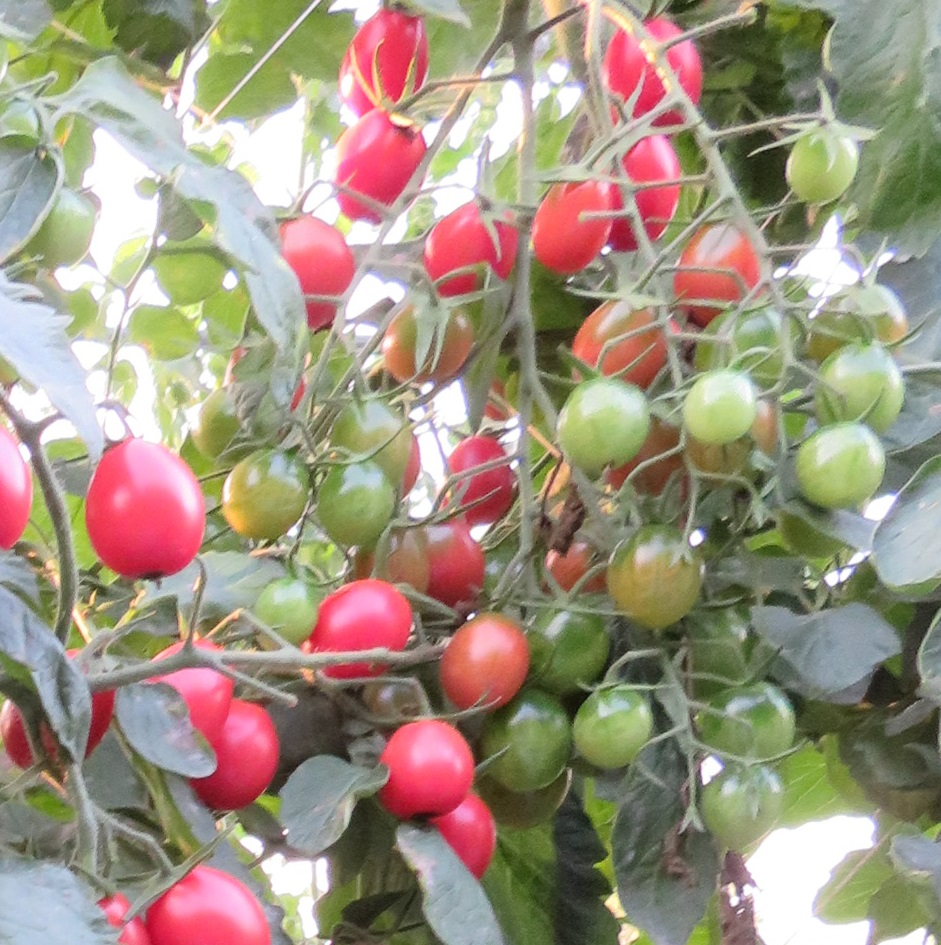green: (596, 522, 704, 634), (688, 754, 791, 859), (552, 376, 654, 478), (788, 418, 891, 514), (211, 447, 318, 537), (803, 336, 906, 425), (382, 298, 475, 385), (318, 452, 399, 550), (524, 603, 611, 693), (480, 714, 577, 794), (575, 678, 662, 767), (782, 122, 867, 206), (696, 682, 794, 752), (702, 305, 790, 382), (328, 394, 427, 461), (681, 367, 757, 441), (253, 576, 311, 637)
orange: (675, 220, 770, 326), (534, 162, 622, 273), (437, 617, 535, 714), (574, 296, 679, 386)
red: (81, 423, 219, 578), (592, 14, 709, 139), (330, 106, 434, 229), (153, 861, 272, 945), (377, 712, 469, 818), (598, 133, 684, 245), (423, 194, 533, 281), (320, 576, 410, 682), (396, 516, 486, 610), (281, 206, 349, 328), (205, 700, 276, 810), (439, 437, 521, 526), (432, 791, 500, 884)
